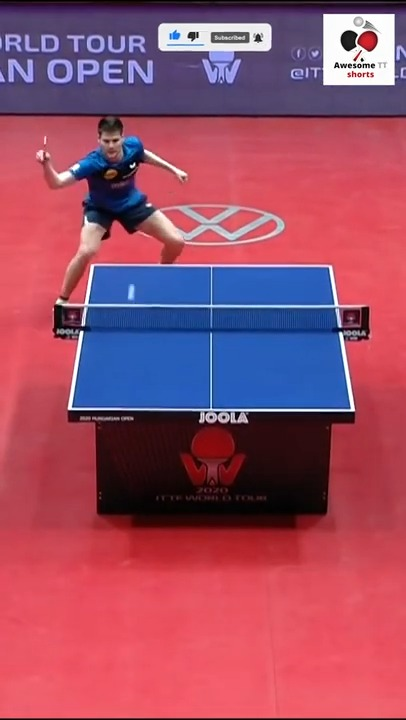Ball: (128, 284, 138, 300)
